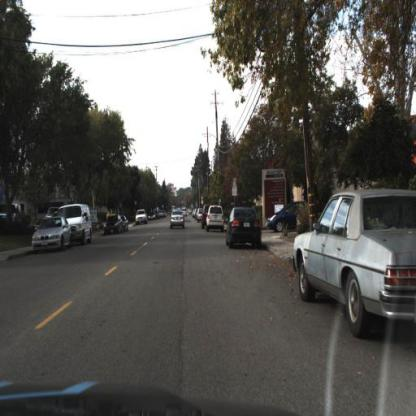car: (296, 188, 416, 341), (31, 214, 73, 254), (226, 207, 264, 251), (267, 200, 307, 235), (72, 204, 94, 244), (102, 209, 125, 240), (103, 212, 124, 238), (206, 206, 226, 232), (169, 208, 187, 233), (170, 209, 188, 230), (134, 205, 149, 228), (121, 211, 132, 234)
